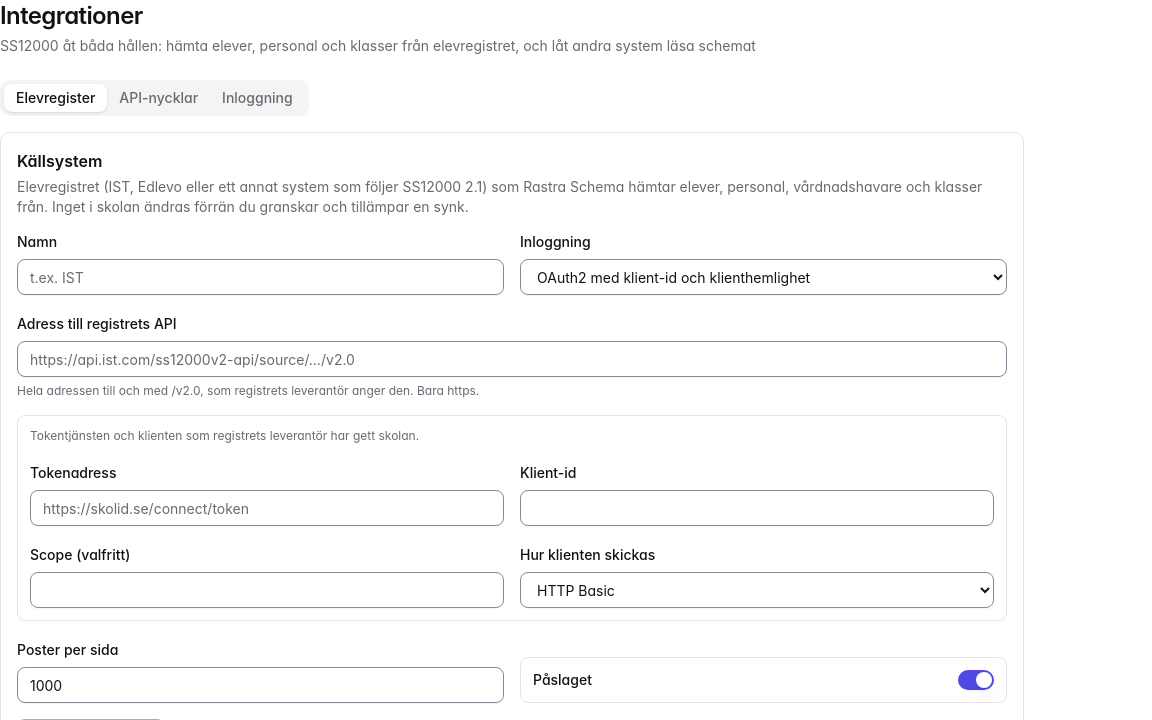
Test: /admin/integrations — Inloggning › keeps SSO-only out of reach from a password session, and says why
Click the tab "Inloggning": [257, 98] box [210,84,305,112]
(page scrolled)
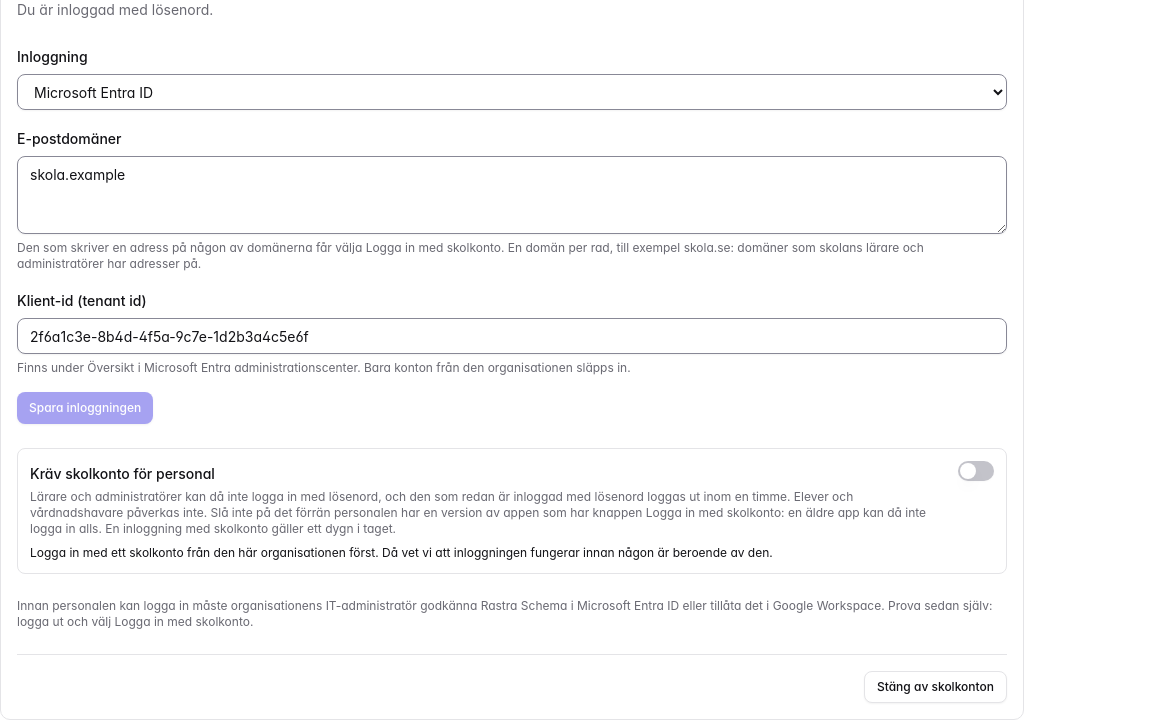
Check: the switch named "Kräv skolkonto för personal" is disabled, box [958,461,994,481]
Check: the text "Logga in med ett skolkonto från den här organisationen först" is shown, box [30,545,773,560]
